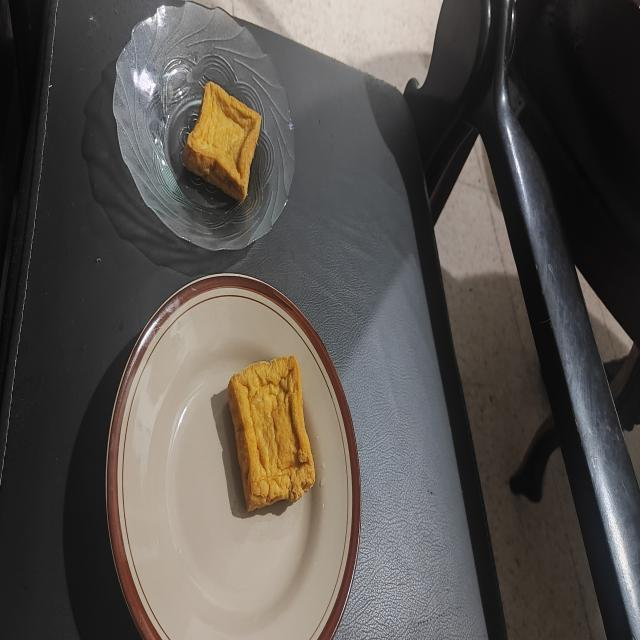tahu_goreng: (228, 356, 315, 511), (183, 81, 261, 202)
